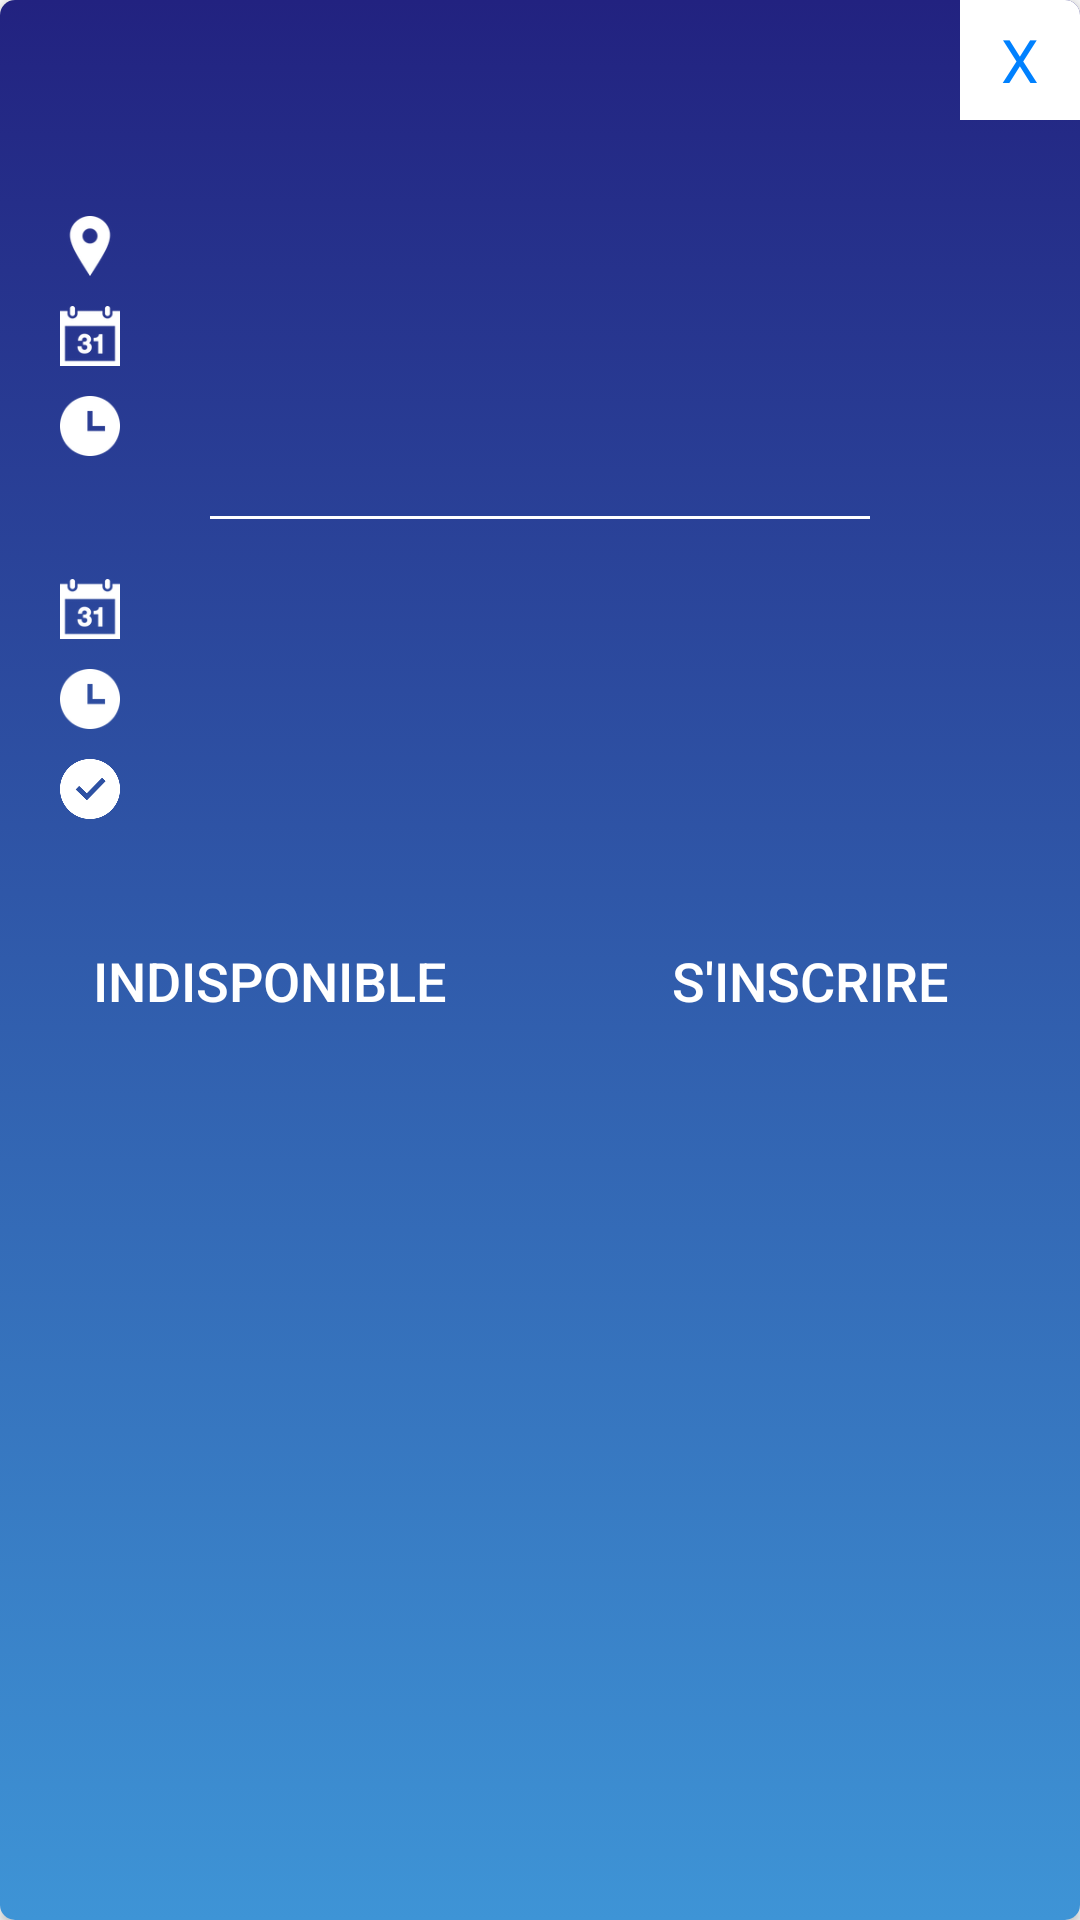

Where to tap for icons on this 1080px×1920px app screen, as (x=x, y=y):
date: (x=90, y=336), (x=90, y=609)
hour: (x=90, y=426), (x=90, y=699)
place: (x=90, y=246)
valide: (x=90, y=789)
